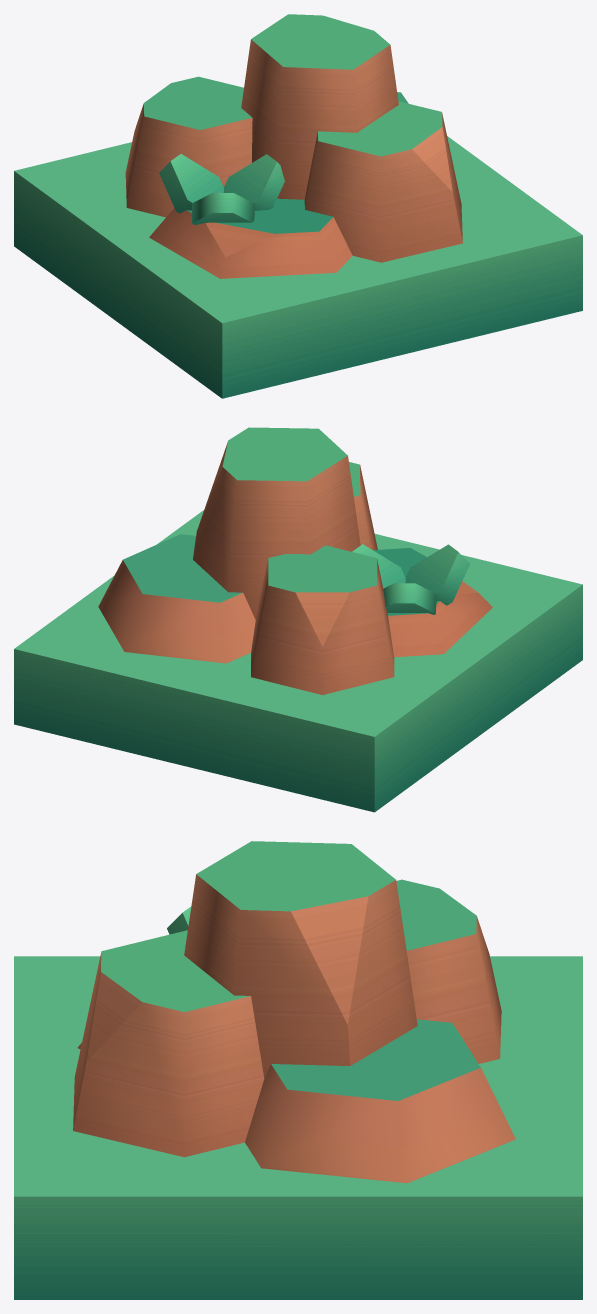
File: tile-rock.glb
3 views of the same model, one above another, from view 1: azimuth 30°, elevation 25°; view 2: azimuth 150°, elevation 25°; view 3: azimuth 270°, elevation 25° (orthographic). The views are drawn at different scales.
Visible parts, largest first — view 1: tile-rock; view 2: tile-rock; view 3: tile-rock.
Boxes of the visible parts, left/top/right/bottom form: tile-rock: left=14, top=14, right=582, bottom=398; tile-rock: left=14, top=427, right=582, bottom=812; tile-rock: left=14, top=841, right=582, bottom=1299.
Size of the model in its own units: 1 by 0.6146 by 1.
Materials: 1 (1 with a texture image).
